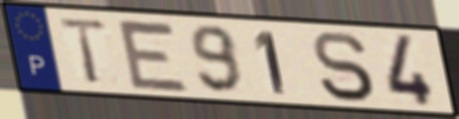1: (252, 29, 288, 96)
4: (383, 32, 437, 110)
9: (188, 23, 248, 96)
E: (113, 16, 193, 95)
S: (309, 29, 378, 104)
T: (57, 15, 111, 86)
